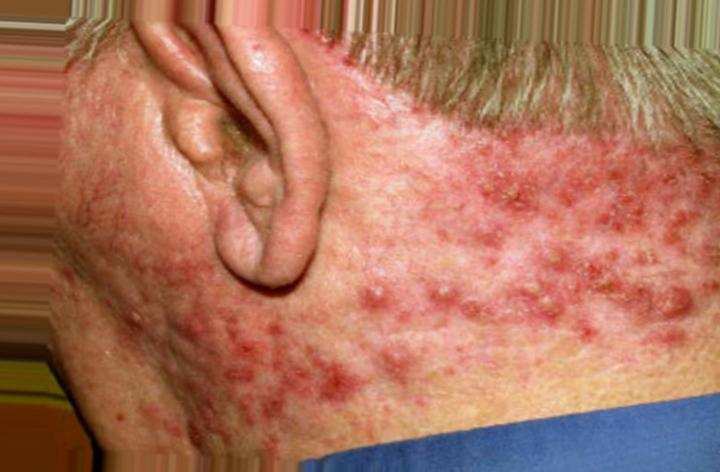Folliculitis: (397, 115, 720, 382)
